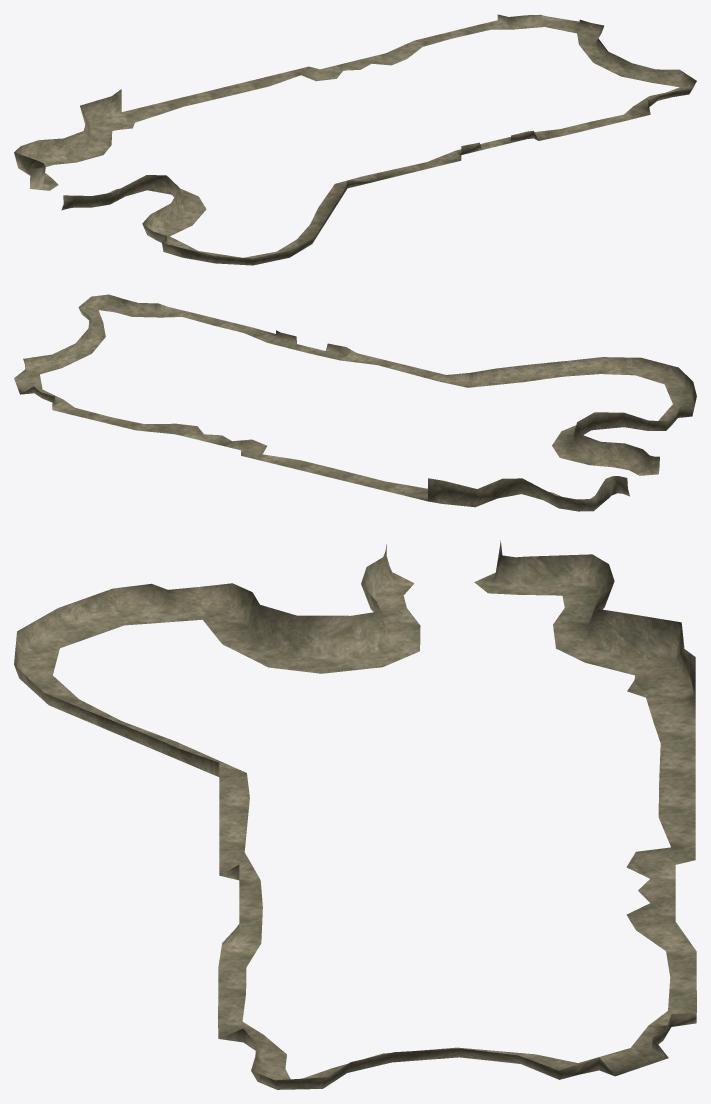
Rendered from EKH_GROTTO_PS_GR_OBJECT62.fbx.
3 renders of one model, top to bottom at view 1: azimuth 30°, elevation 25°; view 2: azimuth 150°, elevation 25°; view 3: azimuth 270°, elevation 25°, orthographic. The views are drawn at different scales.
Parts seen in each view (by area): view 1: EKH_GROTTO_PS_GR_OBJECT62; view 2: EKH_GROTTO_PS_GR_OBJECT62; view 3: EKH_GROTTO_PS_GR_OBJECT62.
Boxes of the visible parts, x1=… form: EKH_GROTTO_PS_GR_OBJECT62: x1=14, y1=14, x2=696, y2=265; EKH_GROTTO_PS_GR_OBJECT62: x1=14, y1=294, x2=696, y2=511; EKH_GROTTO_PS_GR_OBJECT62: x1=14, y1=540, x2=696, y2=1089.
Size of the model in its own units: 284791 by 10495 by 157612.
Materials: 1 (1 with a texture image).
